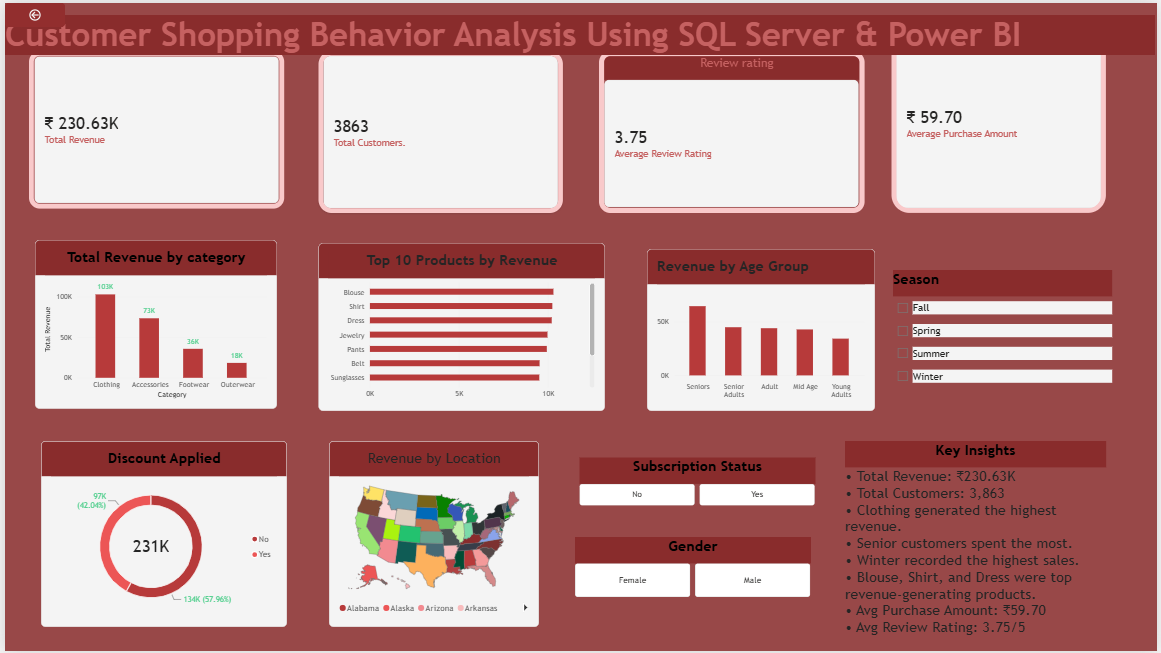

The page's visual inventory and layout, read from the dashboard file:
{"tool":"powerbi","page":{"name":"Page 1","canvas":[1920,1080],"ordinal":0},"visuals":[{"type":"cardVisual","title":" Total customers","fields":{"Data":["Count(customer)"]},"box":[522.5,80,407.5,270],"z":0},{"type":"cardVisual","title":"average purchase amount","fields":{"Data":["Avg(customer.Purchase_Amount_USD)"]},"box":[1477.5,52.5,357.5,297.5],"z":1000},{"type":"cardVisual","title":"Review rating","fields":{"Data":["Avg(customer.Review_Rating)"]},"box":[990,80,442.5,270],"z":2000},{"type":"clusteredColumnChart","title":"Total Revenue by category","fields":{"Category":["customer.Category"],"Y":["customer.Total Revenue"]},"box":[50,395,403,281],"z":3000},{"type":"slicer","title":"Season","fields":{"Values":["customer.Season"]},"box":[1480,445,365,210],"z":5000},{"type":"donutChart","title":" Discount Applied","fields":{"Category":["customer.Discount_Applied"],"Y":["customer.Total Revenue"]},"box":[60,730,410,310],"z":7000},{"type":"cardVisual","title":"Total revenue","fields":{"Data":["customer.Total Revenue"]},"box":[40,80,425,262.5],"z":8000},{"type":"textbox","title":" Customer Shopping Behavior Analysis Using SQL Server & Power BI","box":[0,20,1916.7,66.7],"z":10000},{"type":"advancedSlicerVisual","title":"Subscription Status","fields":{"Values":["customer.Subscription_Status"]},"box":[957.5,757.5,393.3,80],"z":12001},{"type":"advancedSlicerVisual","fields":{"Values":["customer.Gender"]},"box":[950,890,393.3,100],"z":12003},{"type":"actionButton","box":[0,0,100,40],"z":12005},{"type":"textbox","box":[100,100,300,300],"z":12007},{"type":"textbox","box":[100,100,300,300],"z":12008},{"type":"textbox","box":[100,100,300,300],"z":12009},{"type":"textbox","box":[110,110,300,300],"z":12010},{"type":"textbox","box":[120,120,300,300],"z":12011},{"type":"textbox","box":[130,130,300,300],"z":12012},{"type":"textbox","box":[140,140,300,300],"z":12013},{"type":"textbox","box":[150,150,300,300],"z":12014},{"type":"textbox","box":[160,160,300,300],"z":12015},{"type":"textbox","box":[170,170,300,300],"z":12016},{"type":"textbox","box":[180,180,300,300],"z":12017},{"type":"textbox","box":[190,190,300,300],"z":12018},{"type":"textbox","box":[200,200,300,300],"z":12019},{"type":"textbox","box":[210,210,300,300],"z":12020},{"type":"textbox","box":[230,230,300,300],"z":12022},{"type":"textbox","box":[240,240,300,300],"z":12023},{"type":"textbox","box":[250,250,300,300],"z":12024},{"type":"textbox","box":[260,260,300,300],"z":12025},{"type":"textbox","box":[270,270,300,300],"z":12026},{"type":"textbox","box":[280,280,300,300],"z":12027},{"type":"textbox","box":[290,290,300,300],"z":12028},{"type":"textbox","box":[300,300,300,300],"z":12029},{"type":"textbox","box":[310,310,300,300],"z":12030},{"type":"textbox","box":[320,320,300,300],"z":12031},{"type":"textbox","box":[330,330,300,300],"z":12032},{"type":"textbox","box":[340,340,300,300],"z":12033},{"type":"textbox","box":[350,350,300,300],"z":12034},{"type":"textbox","box":[360,360,300,300],"z":12035},{"type":"textbox","box":[370,370,300,300],"z":12036},{"type":"textbox","box":[380,380,300,300],"z":12037},{"type":"textbox","box":[390,390,300,300],"z":12038},{"type":"textbox","box":[400,400,300,300],"z":12039},{"type":"textbox","box":[410,410,300,300],"z":12040},{"type":"textbox","box":[420,420,300,300],"z":12041},{"type":"textbox","box":[430,430,300,300],"z":12042},{"type":"textbox","box":[440,440,300,300],"z":12043},{"type":"textbox","box":[450,450,300,300],"z":12044},{"type":"textbox","box":[490,490,300,300],"z":12048},{"type":"textbox","box":[500,500,300,300],"z":12049},{"type":"textbox","box":[530,530,300,300],"z":12052},{"type":"textbox","box":[550,550,300,300],"z":12054},{"type":"textbox","box":[560,560,300,300],"z":12055},{"type":"textbox","box":[570,570,300,300],"z":12056},{"type":"textbox","box":[580,580,300,300],"z":12057},{"type":"textbox","box":[590,590,300,300],"z":12058},{"type":"textbox","box":[600,600,300,300],"z":12059},{"type":"textbox","box":[610,610,300,300],"z":12060},{"type":"textbox","box":[620,620,300,300],"z":12061},{"type":"textbox","box":[630,630,300,300],"z":12062},{"type":"textbox","box":[640,640,300,300],"z":12063},{"type":"textbox","box":[650,650,300,300],"z":12064},{"type":"textbox","box":[670,670,300,300],"z":12066},{"type":"textbox","box":[680,680,300,300],"z":12067},{"type":"textbox","box":[690,690,300,300],"z":12068},{"type":"textbox","box":[700,700,300,300],"z":12069},{"type":"textbox","box":[710,710,300,300],"z":12070},{"type":"textbox","box":[730,730,300,300],"z":12072},{"type":"textbox","box":[740,740,300,300],"z":12073},{"type":"textbox","box":[750,750,300,300],"z":12074},{"type":"textbox","box":[760,760,300,300],"z":12075},{"type":"textbox","box":[770,770,300,300],"z":12076},{"type":"textbox","box":[780,780,300,300],"z":12077},{"type":"textbox","box":[790,780,300,300],"z":12078},{"type":"textbox","box":[800,780,300,300],"z":12079},{"type":"textbox","box":[810,780,300,300],"z":12080},{"type":"textbox","box":[820,780,300,300],"z":12081},{"type":"textbox","box":[830,780,300,300],"z":12082},{"type":"textbox","box":[840,780,300,300],"z":12083},{"type":"textbox","box":[850,780,300,300],"z":12084},{"type":"textbox","box":[860,780,300,300],"z":12085},{"type":"textbox","box":[870,780,300,300],"z":12086},{"type":"textbox","box":[880,777.5,300,300],"z":12087},{"type":"textbox","box":[880,780,300,300],"z":12088},{"type":"textbox","box":[890,780,300,300],"z":12089},{"type":"textbox","box":[900,777.5,300,300],"z":12090},{"type":"textbox","box":[900,777.5,300,300],"z":12091},{"type":"textbox","box":[900,780,300,300],"z":12092},{"type":"textbox","box":[910,773.8,300,300],"z":12093},{"type":"textbox","box":[910,776.9,300,300],"z":12094},{"type":"textbox","box":[910,780,300,300],"z":12095},{"type":"textbox","box":[920,780,300,300],"z":12096},{"type":"textbox","box":[930,780,300,300],"z":12097},{"type":"textbox","box":[940,780,300,300],"z":12098},{"type":"textbox","box":[950,780,300,300],"z":12099},{"type":"textbox","box":[960,777.5,300,300],"z":12100},{"type":"textbox","box":[960,773.8,300,300],"z":12101},{"type":"textbox","box":[960,776.9,300,300],"z":12102},{"type":"textbox","box":[960,775.3,300,300],"z":12103},{"type":"textbox","box":[960,773,300,300],"z":12104},{"type":"textbox","box":[960,780,300,300],"z":12105},{"type":"textbox","box":[970,780,300,300],"z":12106},{"type":"textbox","box":[980,780,300,300],"z":12107},{"type":"textbox","box":[990,780,300,300],"z":12108},{"type":"textbox","box":[1000,757.5,300,300],"z":12109},{"type":"textbox","box":[1000,780,300,300],"z":12112},{"type":"textbox","box":[1010,780,300,300],"z":12113},{"type":"textbox","box":[1020,780,300,300],"z":12114},{"type":"textbox","box":[1036.2,780,300,300],"z":12115},{"type":"textbox","box":[1030,780,300,300],"z":12116},{"type":"textbox","box":[1040,780,300,300],"z":12117},{"type":"textbox","box":[1050,780,300,300],"z":12118},{"type":"textbox","box":[1080,780,300,300],"z":12119},{"type":"textbox","box":[1090,780,300,300],"z":12120},{"type":"textbox","box":[1082.5,780,300,300],"z":12121},{"type":"textbox","box":[1087.5,780,300,300],"z":12122},{"type":"textbox","box":[1085,780,300,300],"z":12123},{"type":"textbox","box":[1087.5,780,300,300],"z":12124},{"type":"textbox","box":[1097.5,780,300,300],"z":12125},{"type":"textbox","box":[1087.5,780,300,300],"z":12126},{"type":"textbox","box":[1085,780,300,300],"z":12127},{"type":"textbox","box":[1080,780,300,300],"z":12128},{"type":"textbox","box":[1075,780,300,300],"z":12129},{"type":"textbox","box":[1060,780,300,300],"z":12130},{"type":"textbox","box":[1100,780,300,300],"z":12132},{"type":"textbox","box":[1110,780,300,300],"z":12133},{"type":"textbox","box":[1120,780,300,300],"z":12134},{"type":"textbox","box":[1130,780,300,300],"z":12135},{"type":"textbox","box":[1140,780,300,300],"z":12136},{"type":"textbox","box":[1150,780,300,300],"z":12137},{"type":"textbox","box":[1160,780,300,300],"z":12138},{"type":"textbox","box":[1170,780,300,300],"z":12139},{"type":"textbox","box":[1180,780,300,300],"z":12140},{"type":"textbox","box":[1190,780,300,300],"z":12141},{"type":"textbox","box":[1200,780,300,300],"z":12142},{"type":"textbox","box":[1210,780,300,300],"z":12143},{"type":"textbox","box":[1220,780,300,300],"z":12144},{"type":"textbox","box":[1230,780,300,300],"z":12145},{"type":"textbox","box":[1240,780,300,300],"z":12146},{"type":"textbox","box":[1250,780,300,300],"z":12147},{"type":"textbox","box":[1260,780,300,300],"z":12148},{"type":"textbox","box":[1270,780,300,300],"z":12149},{"type":"textbox","box":[1280,780,300,300],"z":12150},{"type":"textbox","box":[1290,780,300,300],"z":12151},{"type":"textbox","box":[1300,780,300,300],"z":12152},{"type":"textbox","box":[1310,780,300,300],"z":12153},{"type":"textbox","box":[1320,780,300,300],"z":12154},{"type":"textbox","box":[1330,780,300,300],"z":12155},{"type":"textbox","box":[1340,780,300,300],"z":12156},{"type":"textbox","box":[1350,780,300,300],"z":12157},{"type":"textbox","box":[1360,780,300,300],"z":12158},{"type":"textbox","box":[1370,780,300,300],"z":12159},{"type":"textbox","box":[1380,780,300,300],"z":12160},{"type":"textbox","box":[1390,780,300,300],"z":12161},{"type":"textbox","box":[1400,780,300,300],"z":12162},{"type":"textbox","title":" Key Insights","box":[1400,730,435,330],"z":12164},{"type":"textbox","box":[100,100,300,300],"z":12165},{"type":"lineStackedColumnComboChart","title":"Revenue by Age Group","fields":{"Category":["customer.Age_Group"],"Y":["customer.Total Revenue"]},"box":[1070,410,380,270],"z":12166},{"type":"clusteredBarChart","title":" Top 10 Products by Revenue","fields":{"Category":["customer.Item_Purchased"],"Y":["Sum(customer.Purchase_Amount_USD)"]},"box":[522.5,400,477.5,280],"z":12167},{"type":"shapeMap","title":"Revenue by Location","fields":{"Category":["customer.Location"],"Series":["customer.Location"]},"box":[540,730,350,310],"z":12168}]}

Visuals, with their boxes in screenshot pixels (x1, y1, x2, y2), scaled from the page's 1920x1080 canvas onto the 1161x653 screenshot:
" Total customers" cardVisual: (316, 48, 562, 212)
"average purchase amount" cardVisual: (893, 32, 1110, 212)
"Review rating" cardVisual: (599, 48, 866, 212)
"Total Revenue by category" clusteredColumnChart: (30, 239, 274, 409)
"Season" slicer: (895, 269, 1116, 396)
" Discount Applied" donutChart: (36, 441, 284, 629)
"Total revenue" cardVisual: (24, 48, 281, 207)
" Customer Shopping Behavior Analysis Using SQL Server & Power BI" textbox: (0, 12, 1159, 52)
"Subscription Status" advancedSlicerVisual: (579, 458, 817, 506)
advancedSlicerVisual - customer.Gender: (574, 538, 812, 599)
actionButton: (0, 0, 60, 24)
textbox: (60, 60, 242, 242)
textbox: (60, 60, 242, 242)
textbox: (60, 60, 242, 242)
textbox: (67, 67, 248, 248)
textbox: (73, 73, 254, 254)
textbox: (79, 79, 260, 260)
textbox: (85, 85, 266, 266)
textbox: (91, 91, 272, 272)
textbox: (97, 97, 278, 278)
textbox: (103, 103, 284, 284)
textbox: (109, 109, 290, 290)
textbox: (115, 115, 296, 296)
textbox: (121, 121, 302, 302)
textbox: (127, 127, 308, 308)
textbox: (139, 139, 320, 320)
textbox: (145, 145, 327, 326)
textbox: (151, 151, 333, 333)
textbox: (157, 157, 339, 339)
textbox: (163, 163, 345, 345)
textbox: (169, 169, 351, 351)
textbox: (175, 175, 357, 357)
textbox: (181, 181, 363, 363)
textbox: (187, 187, 369, 369)
textbox: (194, 193, 375, 375)
textbox: (200, 200, 381, 381)
textbox: (206, 206, 387, 387)
textbox: (212, 212, 393, 393)
textbox: (218, 218, 399, 399)
textbox: (224, 224, 405, 405)
textbox: (230, 230, 411, 411)
textbox: (236, 236, 417, 417)
textbox: (242, 242, 423, 423)
textbox: (248, 248, 429, 429)
textbox: (254, 254, 435, 435)
textbox: (260, 260, 441, 441)
textbox: (266, 266, 447, 447)
textbox: (272, 272, 454, 453)
textbox: (296, 296, 478, 478)
textbox: (302, 302, 484, 484)
textbox: (320, 320, 502, 502)
textbox: (333, 333, 514, 514)
textbox: (339, 339, 520, 520)
textbox: (345, 345, 526, 526)
textbox: (351, 351, 532, 532)
textbox: (357, 357, 538, 538)
textbox: (363, 363, 544, 544)
textbox: (369, 369, 550, 550)
textbox: (375, 375, 556, 556)
textbox: (381, 381, 562, 562)
textbox: (387, 387, 568, 568)
textbox: (393, 393, 574, 574)
textbox: (405, 405, 587, 586)
textbox: (411, 411, 593, 593)
textbox: (417, 417, 599, 599)
textbox: (423, 423, 605, 605)
textbox: (429, 429, 611, 611)
textbox: (441, 441, 623, 623)
textbox: (447, 447, 629, 629)
textbox: (454, 453, 635, 635)
textbox: (460, 460, 641, 641)
textbox: (466, 466, 647, 647)
textbox: (472, 472, 653, 652)
textbox: (478, 472, 659, 652)
textbox: (484, 472, 665, 652)
textbox: (490, 472, 671, 652)
textbox: (496, 472, 677, 652)
textbox: (502, 472, 683, 652)
textbox: (508, 472, 689, 652)
textbox: (514, 472, 695, 652)
textbox: (520, 472, 701, 652)
textbox: (526, 472, 707, 652)
textbox: (532, 470, 714, 651)
textbox: (532, 472, 714, 652)
textbox: (538, 472, 720, 652)
textbox: (544, 470, 726, 651)
textbox: (544, 470, 726, 651)
textbox: (544, 472, 726, 652)
textbox: (550, 468, 732, 649)
textbox: (550, 470, 732, 651)
textbox: (550, 472, 732, 652)
textbox: (556, 472, 738, 652)
textbox: (562, 472, 744, 652)
textbox: (568, 472, 750, 652)
textbox: (574, 472, 756, 652)
textbox: (580, 470, 762, 651)
textbox: (580, 468, 762, 649)
textbox: (580, 470, 762, 651)
textbox: (580, 469, 762, 650)
textbox: (580, 467, 762, 649)
textbox: (580, 472, 762, 652)
textbox: (587, 472, 768, 652)
textbox: (593, 472, 774, 652)
textbox: (599, 472, 780, 652)
textbox: (605, 458, 786, 639)
textbox: (605, 472, 786, 652)
textbox: (611, 472, 792, 652)
textbox: (617, 472, 798, 652)
textbox: (627, 472, 808, 652)
textbox: (623, 472, 804, 652)
textbox: (629, 472, 810, 652)
textbox: (635, 472, 816, 652)
textbox: (653, 472, 834, 652)
textbox: (659, 472, 841, 652)
textbox: (655, 472, 836, 652)
textbox: (658, 472, 839, 652)
textbox: (656, 472, 837, 652)
textbox: (658, 472, 839, 652)
textbox: (664, 472, 845, 652)
textbox: (658, 472, 839, 652)
textbox: (656, 472, 837, 652)
textbox: (653, 472, 834, 652)
textbox: (650, 472, 831, 652)
textbox: (641, 472, 822, 652)
textbox: (665, 472, 847, 652)
textbox: (671, 472, 853, 652)
textbox: (677, 472, 859, 652)
textbox: (683, 472, 865, 652)
textbox: (689, 472, 871, 652)
textbox: (695, 472, 877, 652)
textbox: (701, 472, 883, 652)
textbox: (707, 472, 889, 652)
textbox: (714, 472, 895, 652)
textbox: (720, 472, 901, 652)
textbox: (726, 472, 907, 652)
textbox: (732, 472, 913, 652)
textbox: (738, 472, 919, 652)
textbox: (744, 472, 925, 652)
textbox: (750, 472, 931, 652)
textbox: (756, 472, 937, 652)
textbox: (762, 472, 943, 652)
textbox: (768, 472, 949, 652)
textbox: (774, 472, 955, 652)
textbox: (780, 472, 961, 652)
textbox: (786, 472, 968, 652)
textbox: (792, 472, 974, 652)
textbox: (798, 472, 980, 652)
textbox: (804, 472, 986, 652)
textbox: (810, 472, 992, 652)
textbox: (816, 472, 998, 652)
textbox: (822, 472, 1004, 652)
textbox: (828, 472, 1010, 652)
textbox: (834, 472, 1016, 652)
textbox: (841, 472, 1022, 652)
textbox: (847, 472, 1028, 652)
" Key Insights" textbox: (847, 441, 1110, 641)
textbox: (60, 60, 242, 242)
"Revenue by Age Group" lineStackedColumnComboChart: (647, 248, 877, 411)
" Top 10 Products by Revenue" clusteredBarChart: (316, 242, 605, 411)
"Revenue by Location" shapeMap: (327, 441, 538, 629)
